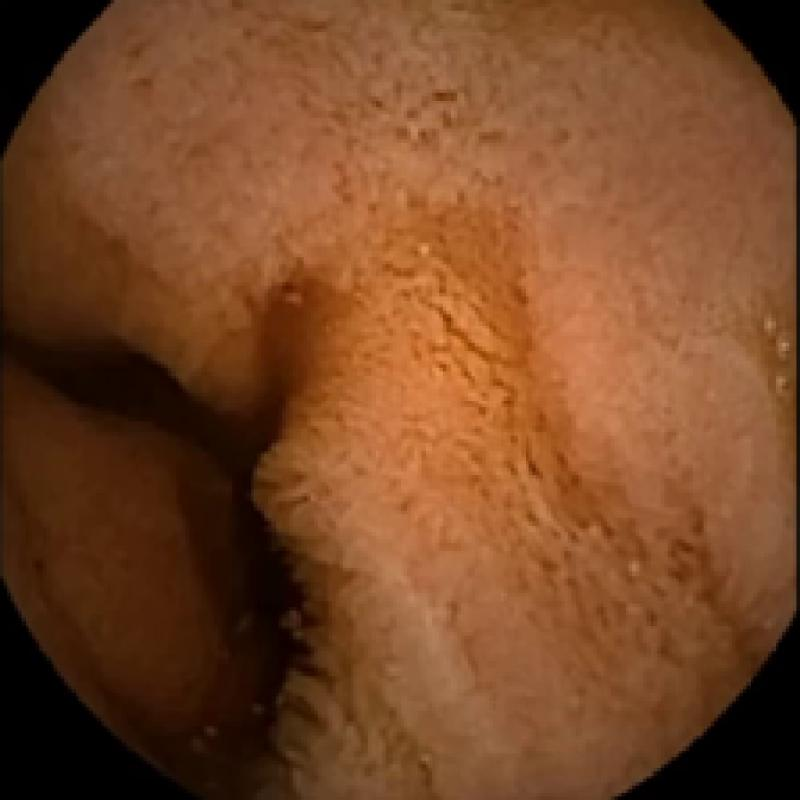bleeding: (11, 332, 339, 754)
